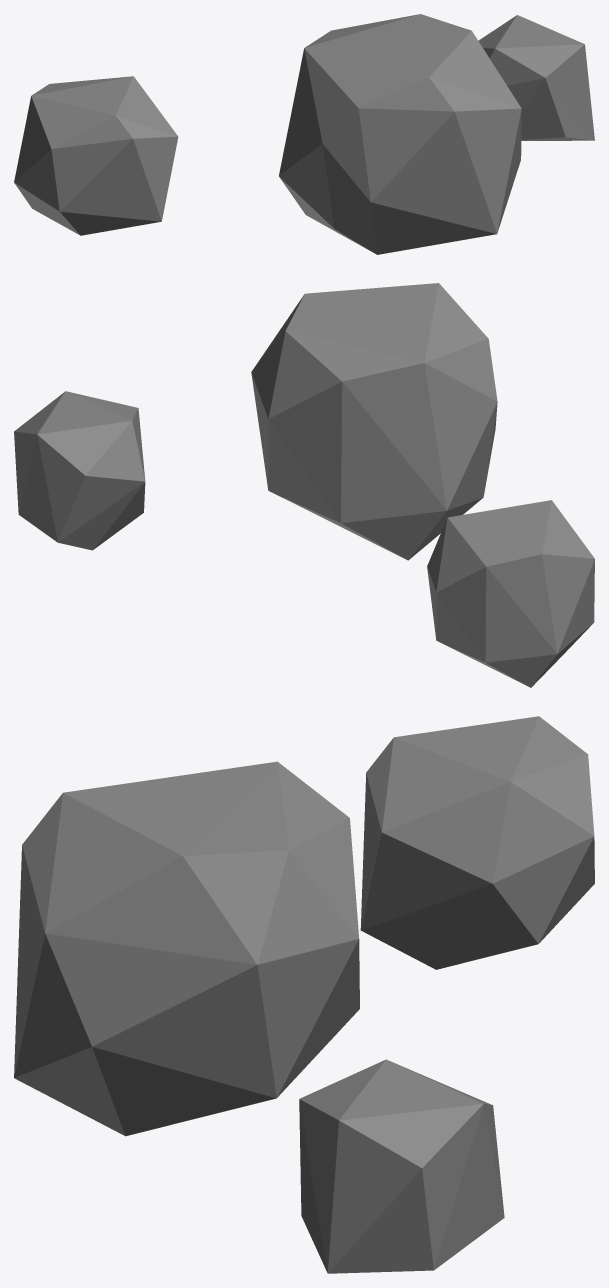
Rendered from Pebbles_3.glb.
3 renders of one model, top to bottom at view 1: azimuth 30°, elevation 25°; view 2: azimuth 150°, elevation 25°; view 3: azimuth 270°, elevation 25°, orthographic. The views are drawn at different scales.
Visible parts, largest first — view 1: Pebbles_3; view 2: Pebbles_3; view 3: Pebbles_3.
Part boxes in pixels (left/top/right/bottom): Pebbles_3: left=14, top=14, right=594, bottom=254; Pebbles_3: left=14, top=283, right=594, bottom=687; Pebbles_3: left=14, top=716, right=594, bottom=1273.
Bounding box in the file's own units: 0.6811 × 0.2417 × 0.4199.
1 material, 1 textured.
